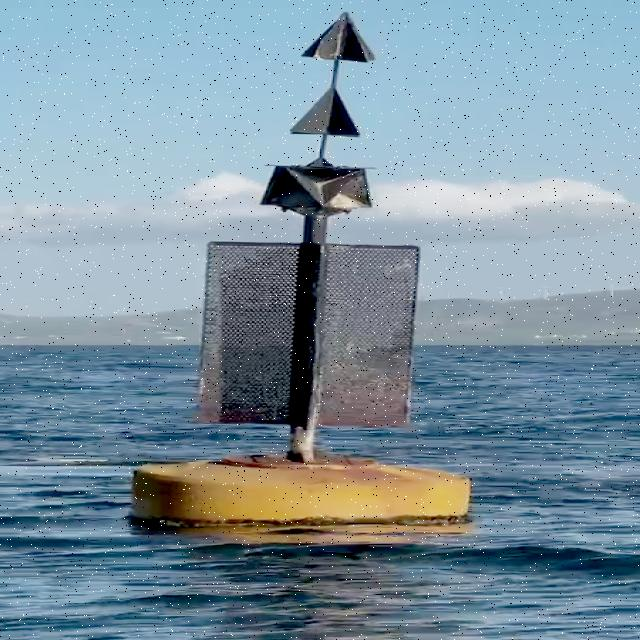marque: (145, 6, 481, 532)
